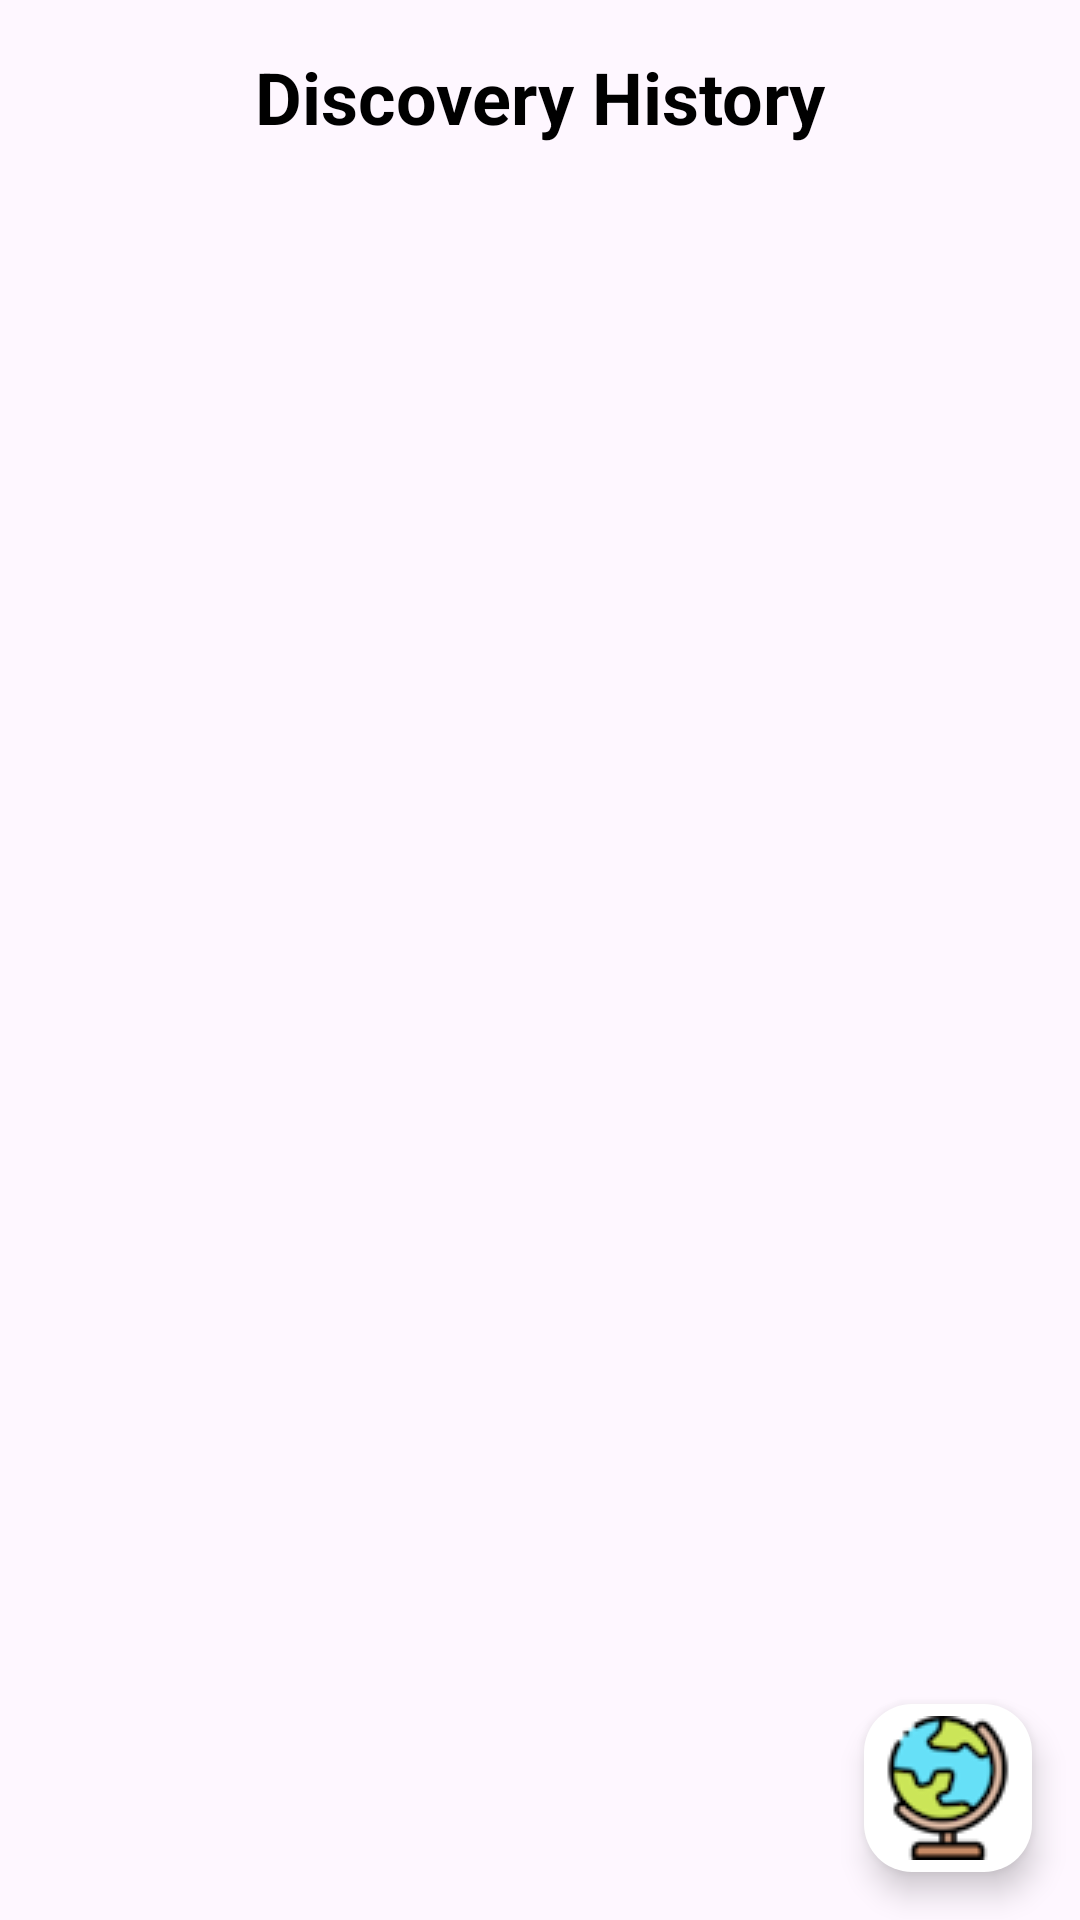

Screen size 1080×1920. Icon name, then its center in pixels as point (x, y):
globus: point (948, 1788)
